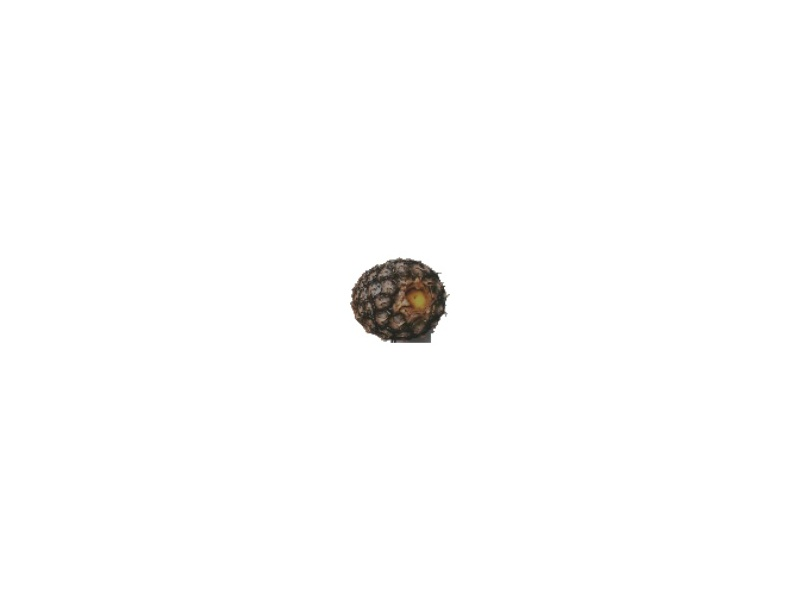abacaxi: (349, 257, 454, 352)
